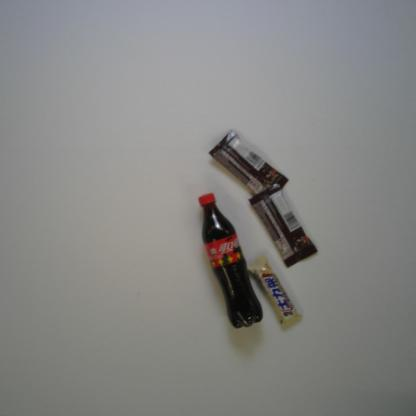Chocolate: (246, 182, 321, 270), (206, 129, 290, 201), (247, 252, 306, 330)
Drink: (196, 192, 264, 330)
